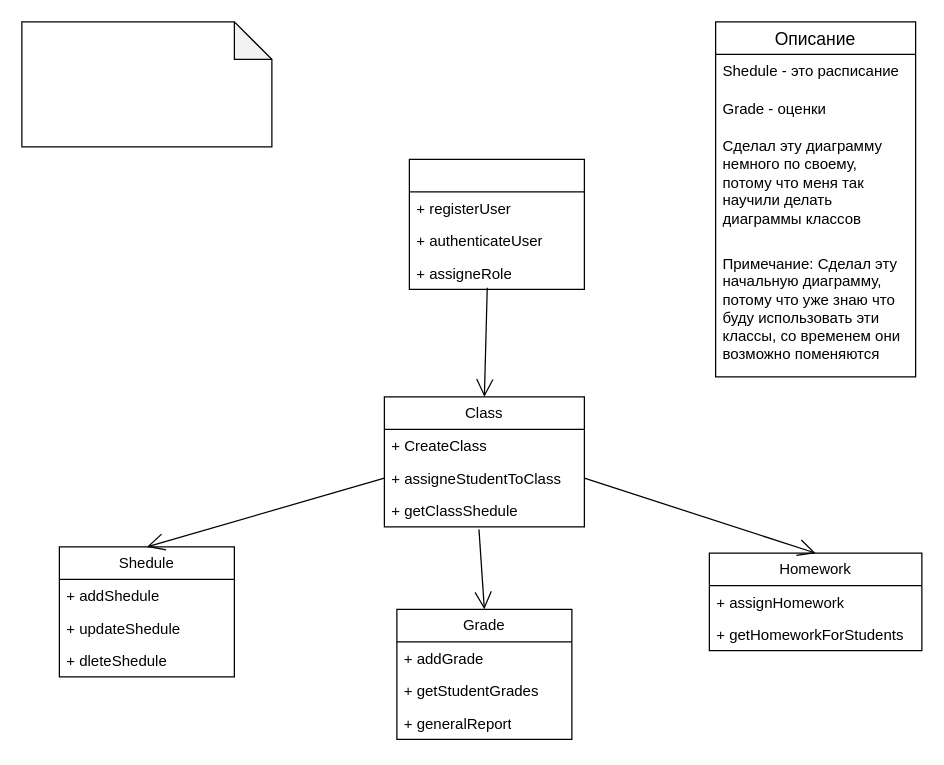
The diagram is 944 pixels wide and 765 high, and some of its shapes have lost their labels. The shapes that lost their labels are listed below. From the top down, each one's box as (x1, y1, x2, y2) in pixels, then its label:
(21, 21, 272, 147): Классы программы
(408, 158, 584, 289): Users
